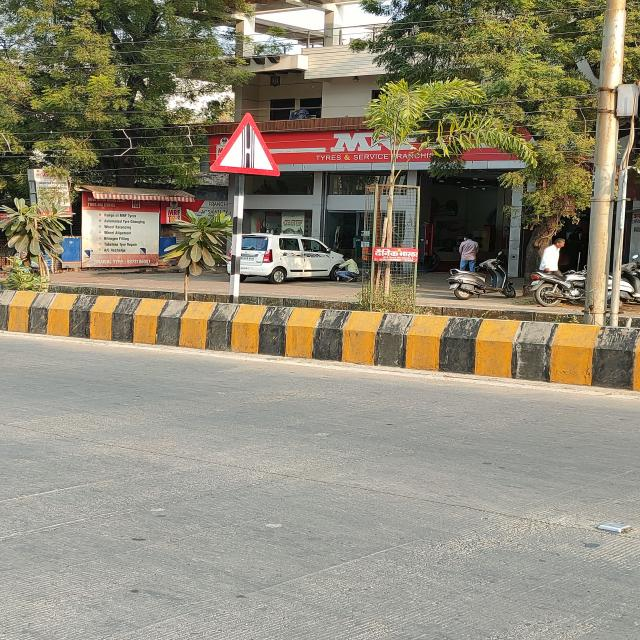ferry: (208, 112, 281, 176)
